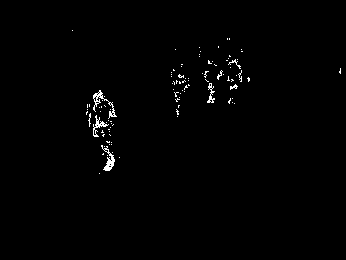person: (84, 89, 117, 173), (219, 53, 247, 109), (169, 62, 191, 117), (202, 54, 224, 106)
